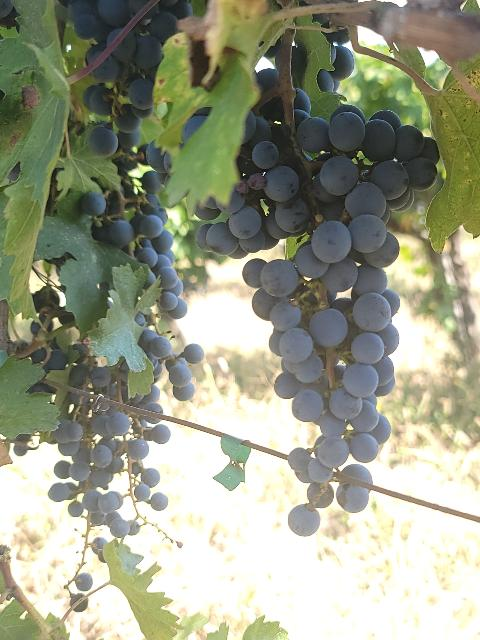grapes: (199, 105, 439, 535), (65, 0, 191, 156), (49, 392, 170, 538), (92, 215, 186, 318), (29, 340, 129, 396), (121, 395, 162, 412), (81, 192, 106, 218)
